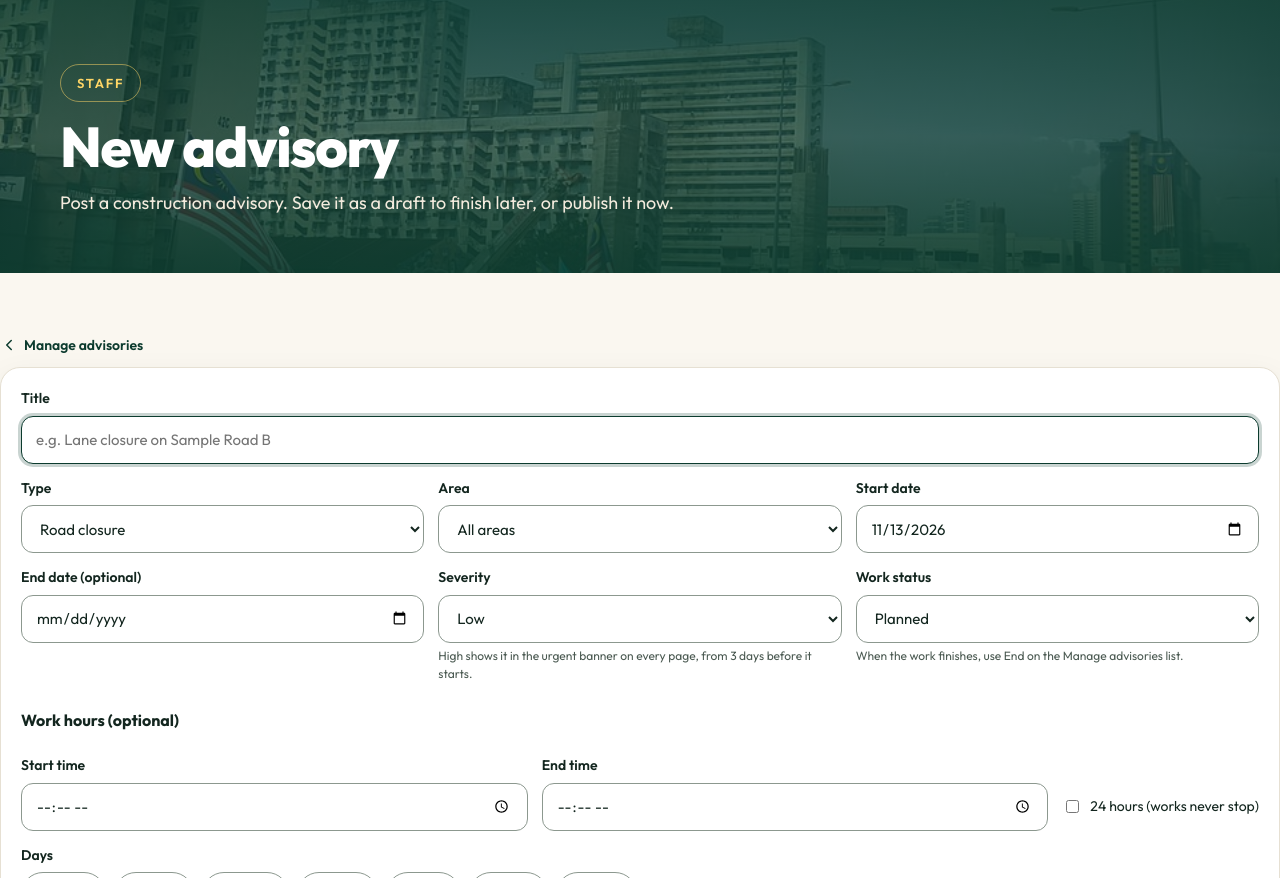
Scenario: Advisory form: the work hours pickers › asks for what is missing, and puts the cursor there
Type "Night lane closure" into the field labelled "Title".
click(640, 440); type("Night lane closure")  # box [21,416,1259,464]
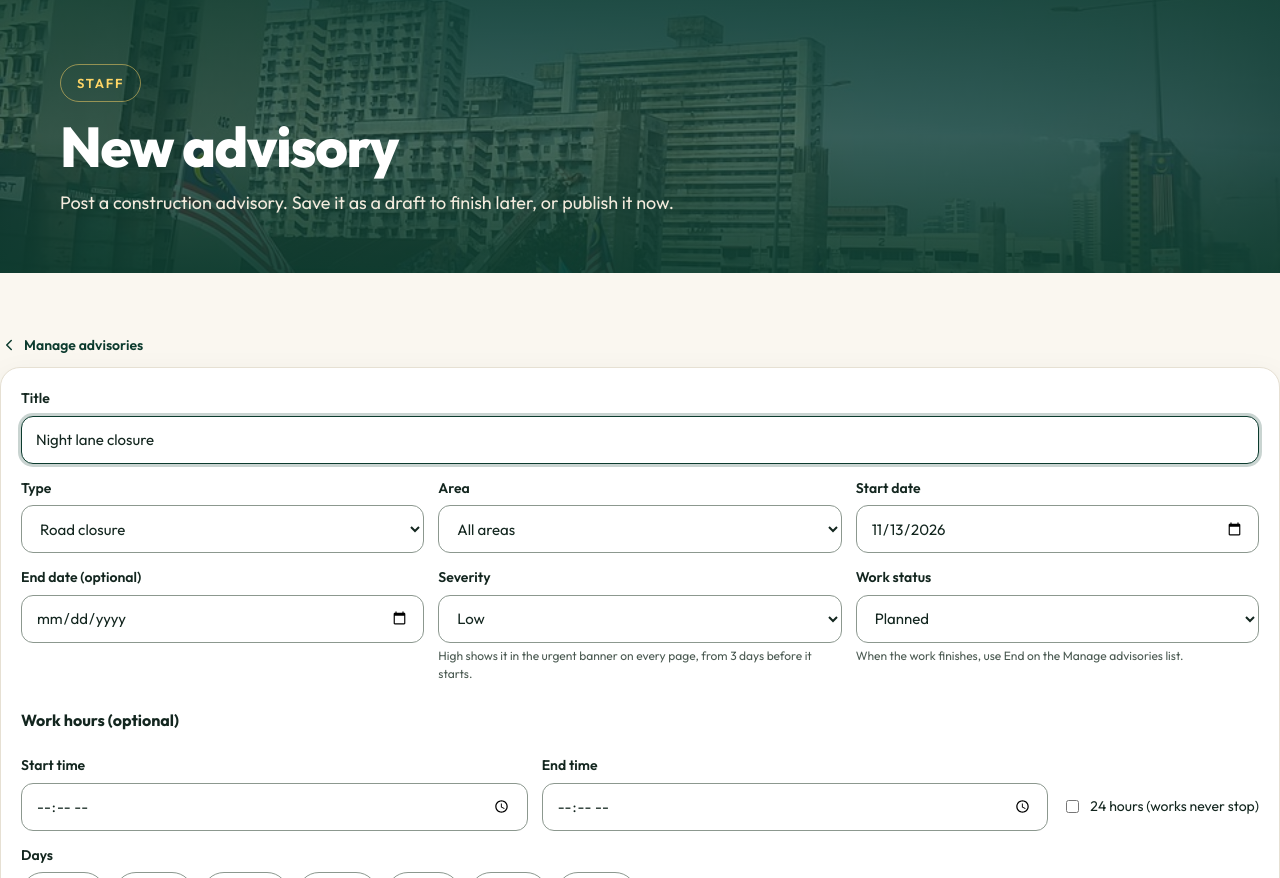
Type "09:00" into the time field labelled "Start time".
click(274, 807); type("09:00")  # box [21,783,528,831]
(page scrolled)
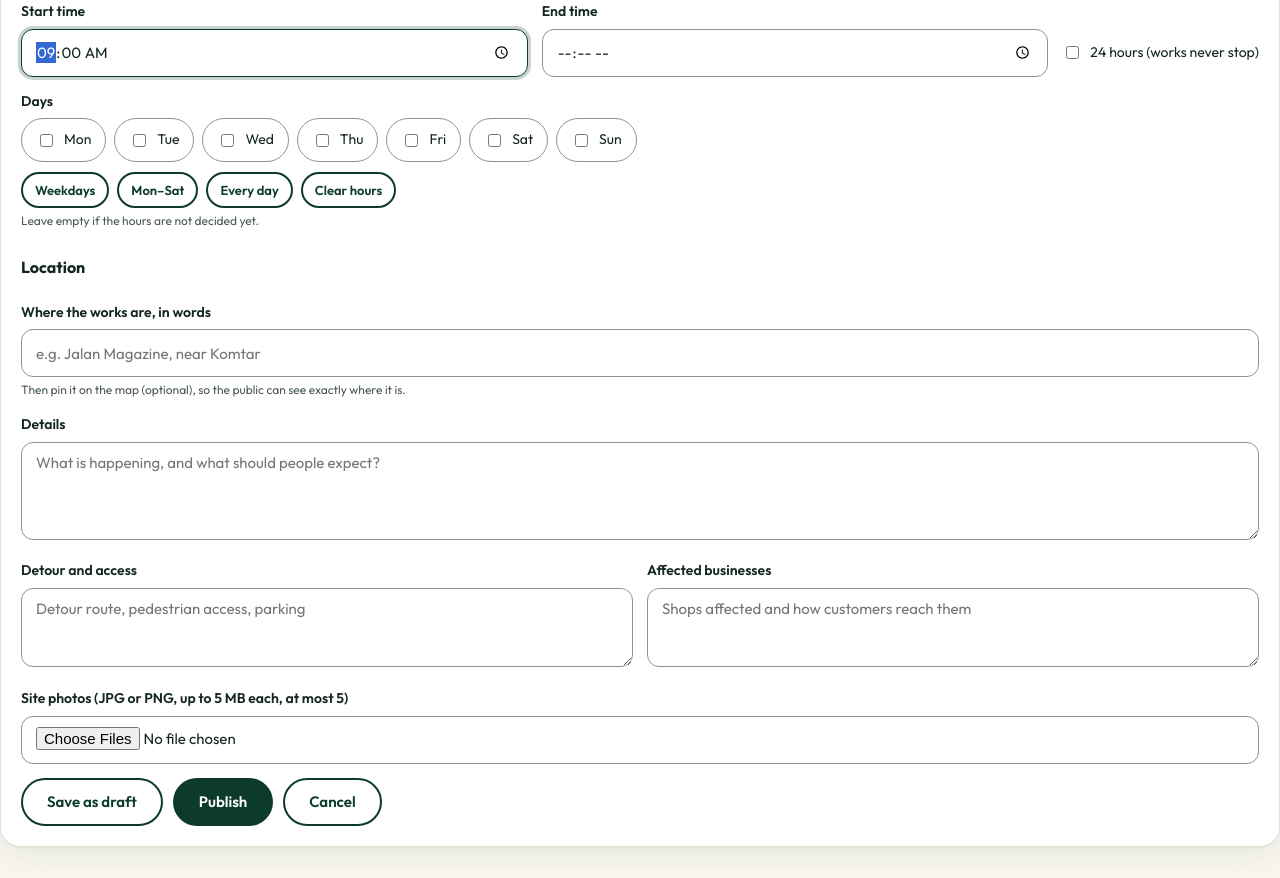
Click the button "Save as draft".
click(92, 802)  # box [21,778,163,826]
(page scrolled)
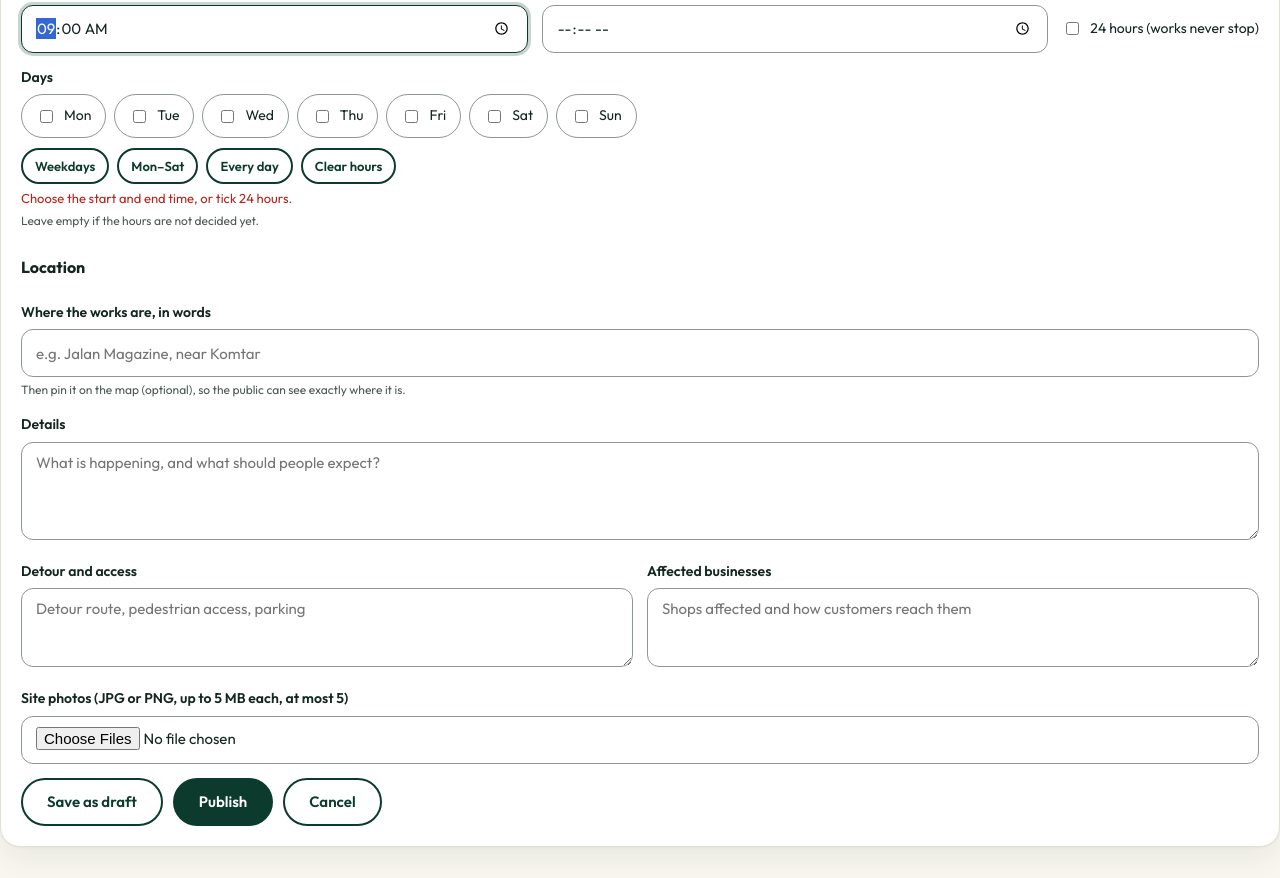
Check: the text "Choose the start and end time, or tick 24 hours." is shown, box [21,190,292,206]
Type "17:00" into the time field labelled "End time".
click(795, 29); type("17:00")  # box [542,5,1048,53]
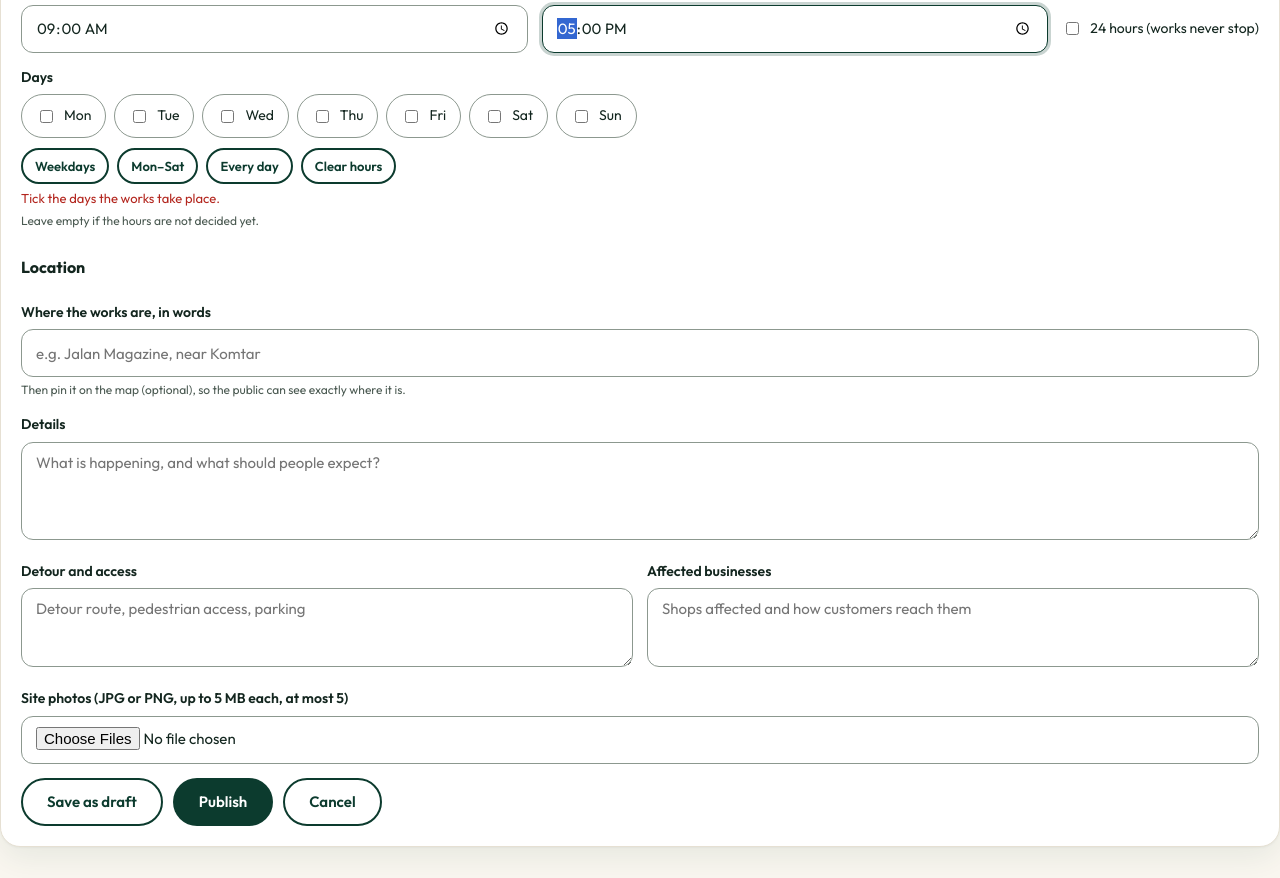
Check: the text "Tick the days the works take place." is shown, box [21,190,220,206]
Click the checkbox labelled "Mon".
click(46, 116)  # box [40,110,53,123]
(page scrolled)
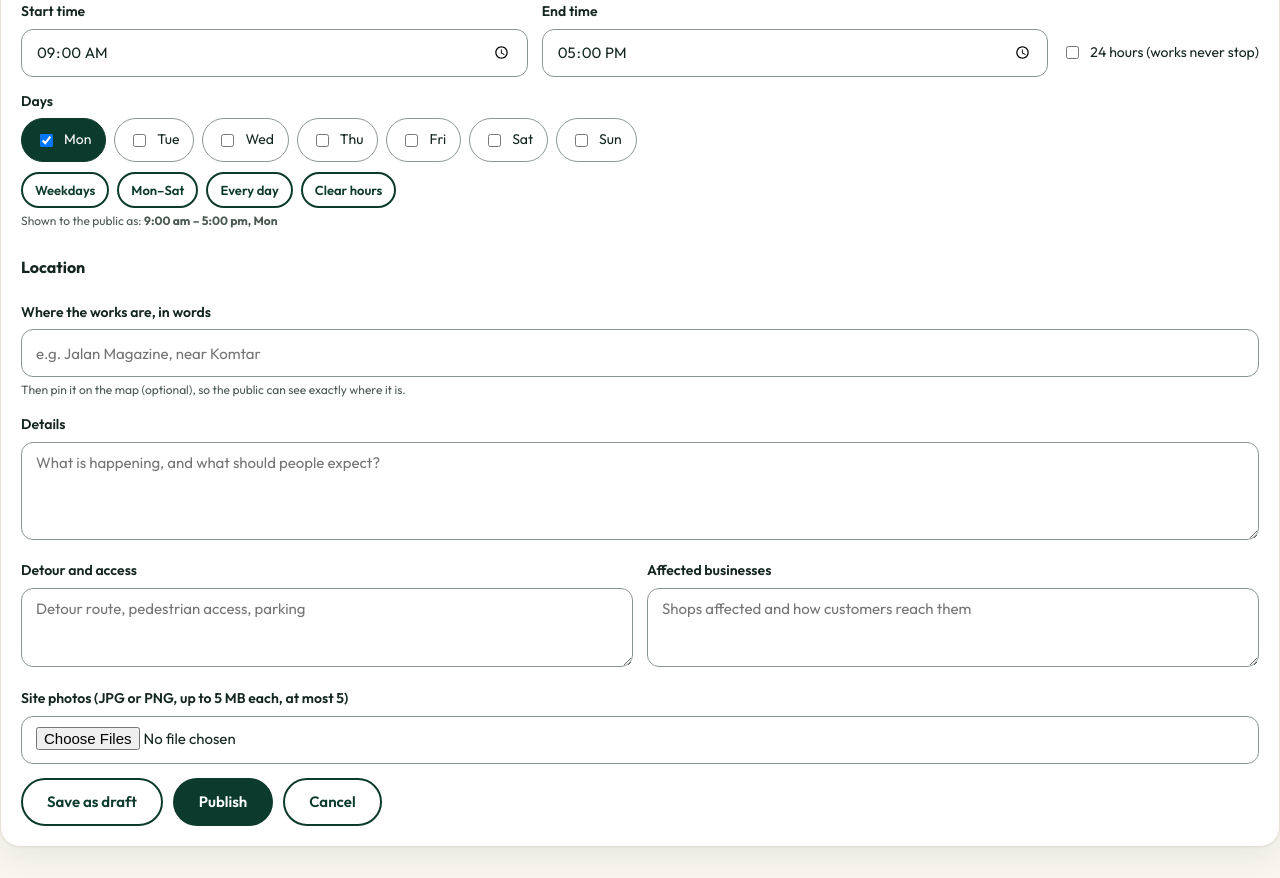
Check: the text "Tick the days the works take place." is gone
